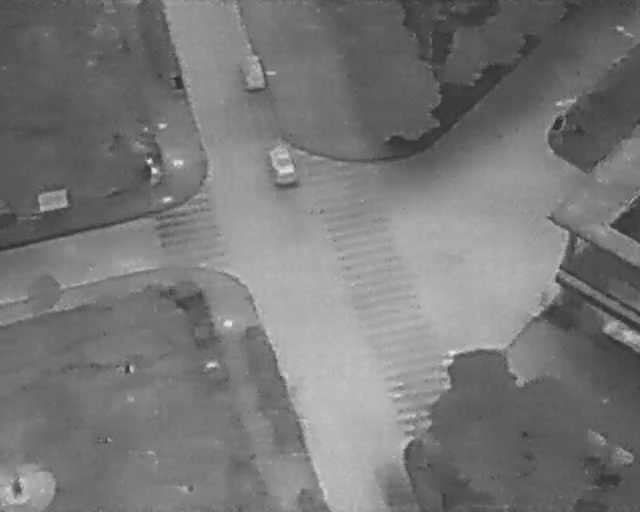Car: (264, 138, 302, 189), (238, 53, 265, 92)
